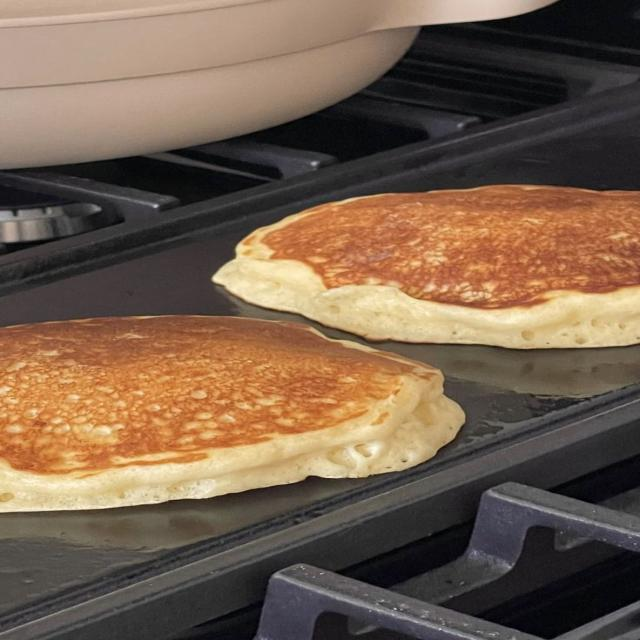pancake: (0, 316, 463, 511), (214, 186, 639, 348)
